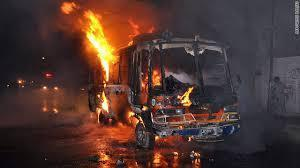fire: (58, 0, 200, 126)
